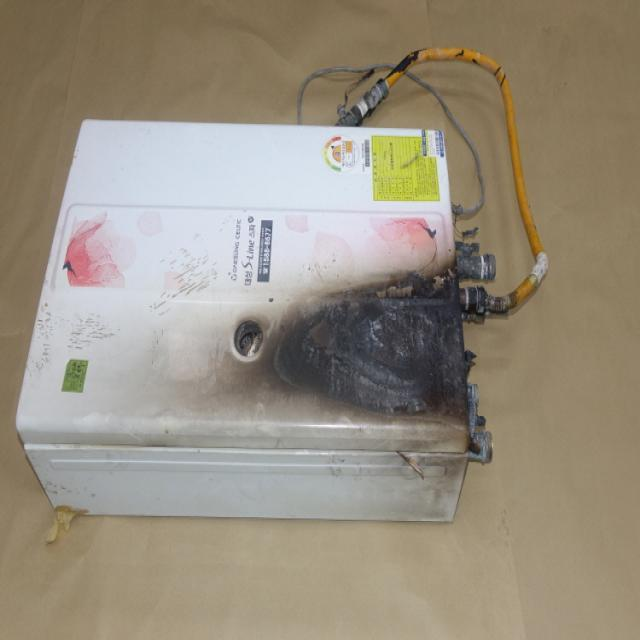Boiler: (56, 119, 492, 511)
